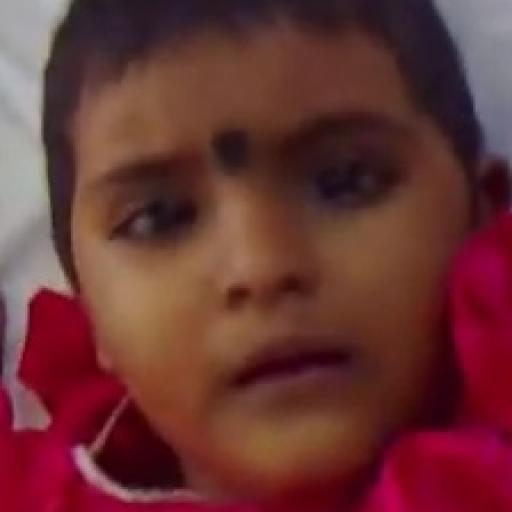Autism: (43, 30, 512, 482)
